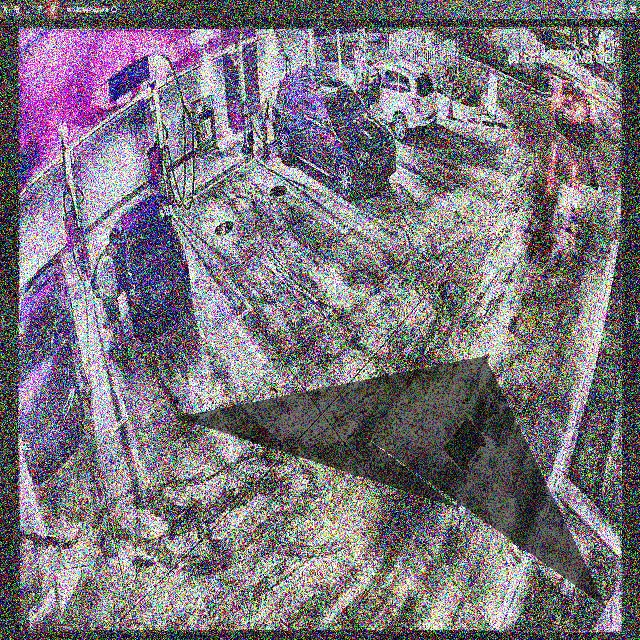Car: (272, 68, 396, 199), (90, 195, 199, 326)
